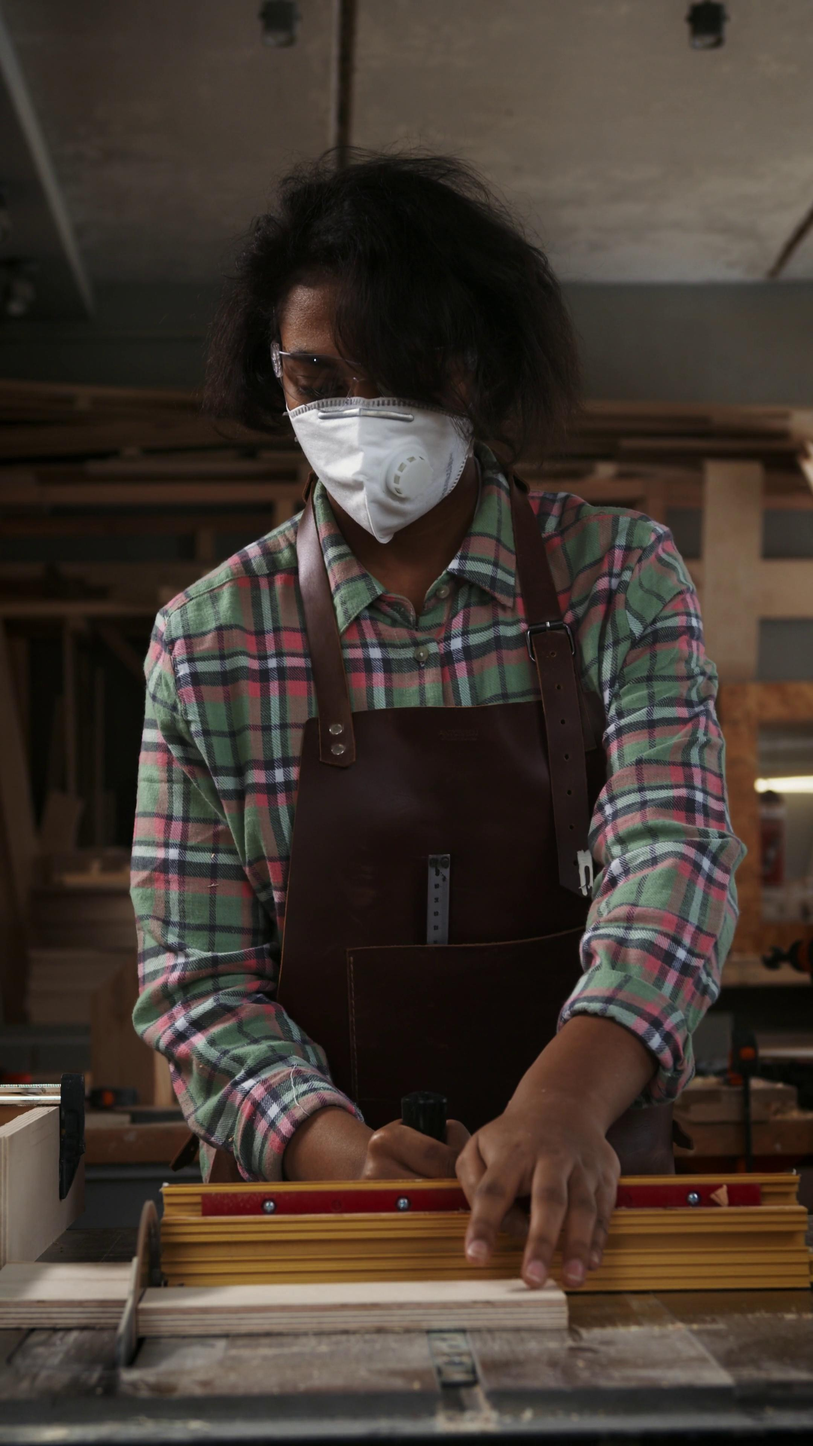mask: (282, 395, 473, 546)
person: (126, 149, 748, 1292)
